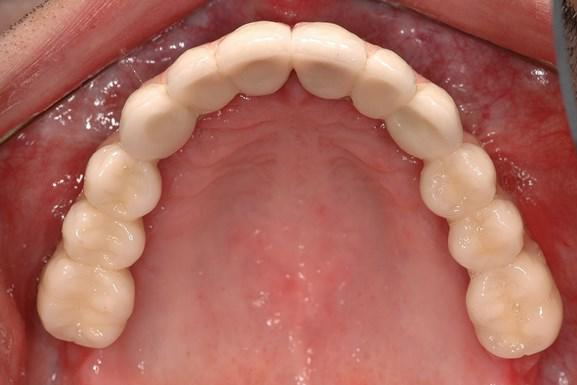normal: (463, 250, 565, 359), (35, 242, 136, 348), (290, 15, 367, 98), (382, 84, 465, 160), (118, 83, 196, 162), (60, 198, 145, 270), (417, 142, 497, 217), (444, 195, 525, 268), (83, 144, 160, 220), (217, 18, 290, 96), (160, 44, 235, 111), (351, 46, 419, 119)
